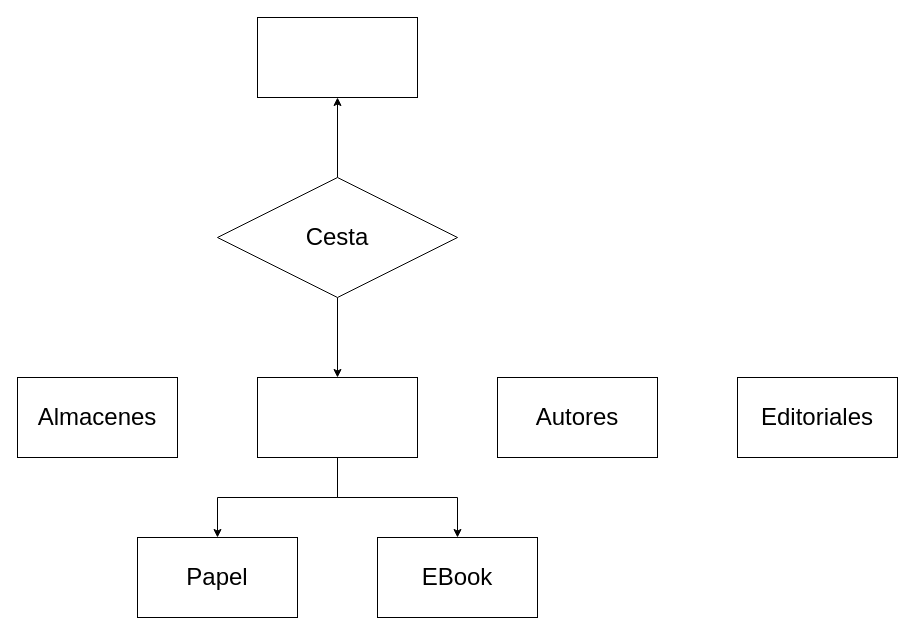
The diagram is 915 pixels wide and 635 high, and some of its shapes have lost their labels. The shapes that lost their labels are listed below. From the top down, each one's centre as x and y in pixels, then its label:
the point at 337,57: Clientes
the point at 337,417: Libro
